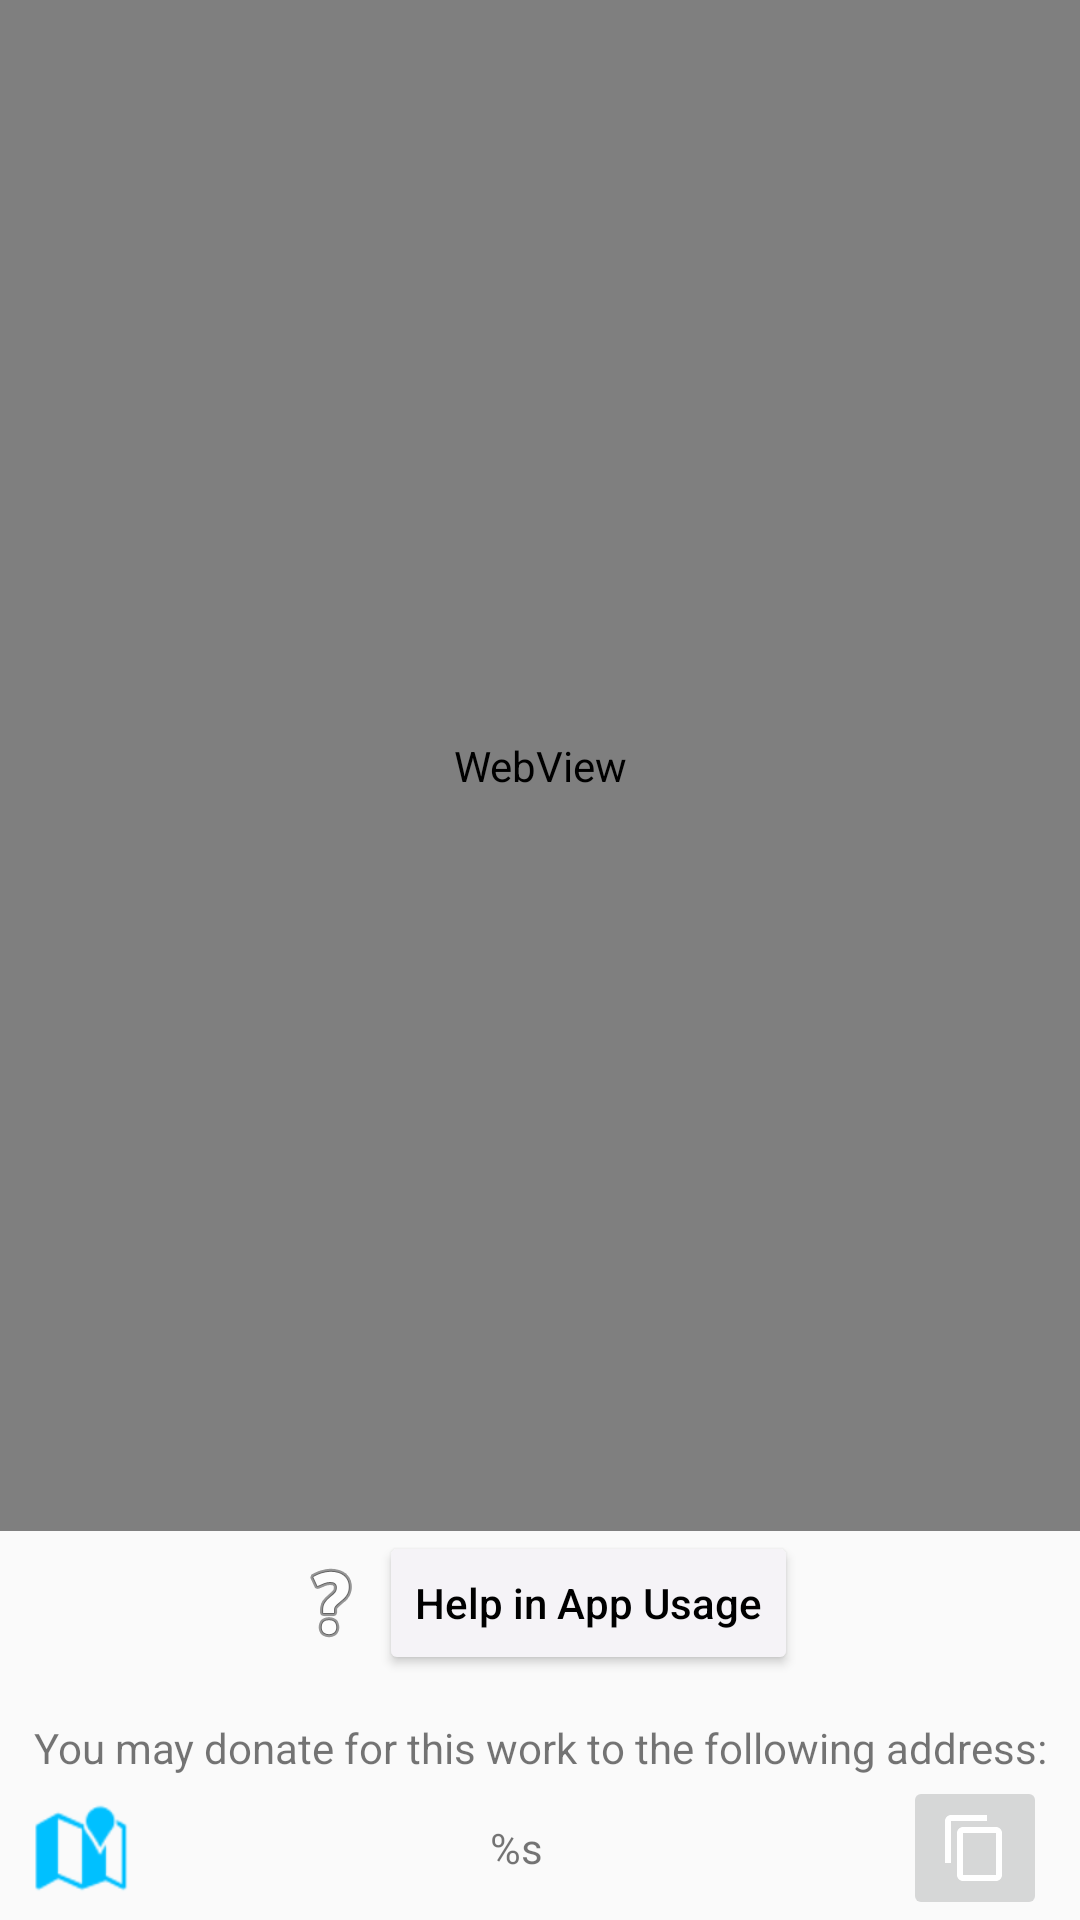

Where to tap for icons on this 1080 × 1920 app screen, as (x,y):
Copy address to donate to: (975,1848)
map: (81,1847)
